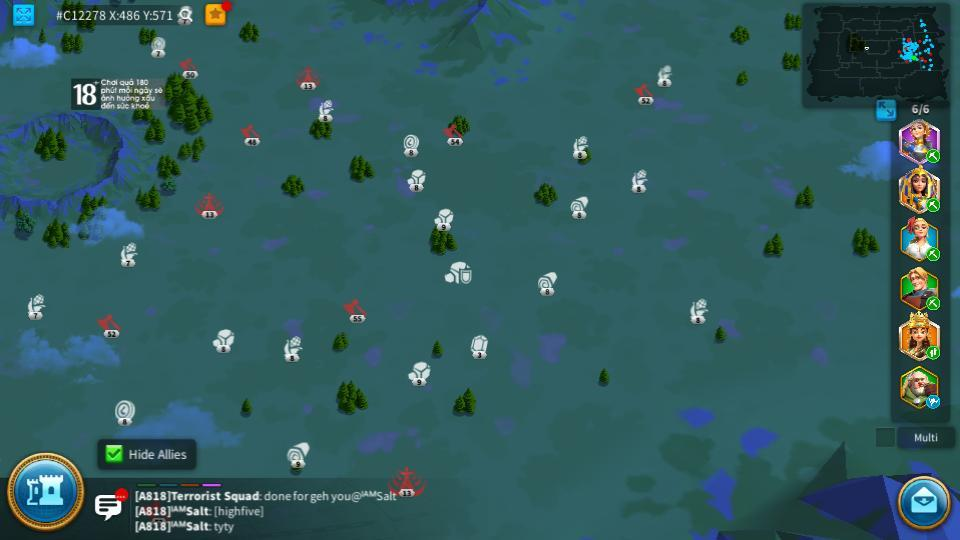gem-z-out: (469, 334, 488, 356)
march_farming: (925, 197, 941, 212), (925, 249, 941, 261)
march_idle: (925, 396, 942, 408)
march_marching: (925, 347, 941, 359), (925, 150, 941, 162), (925, 297, 942, 308)
